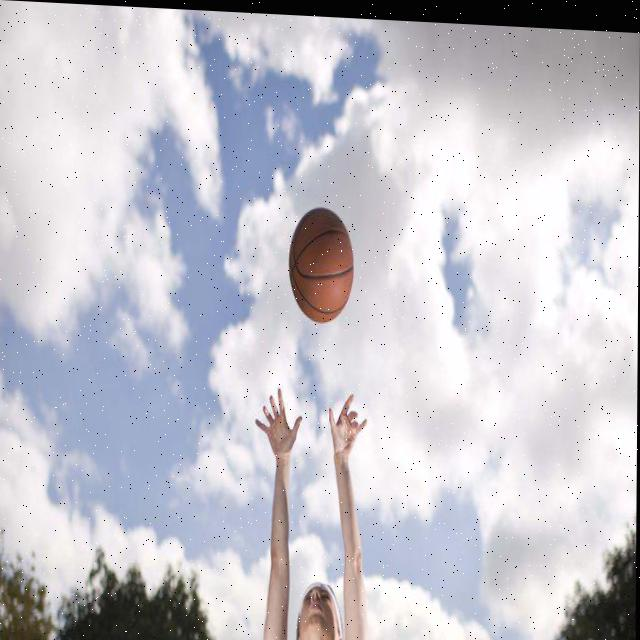basketball: (289, 205, 354, 324)
